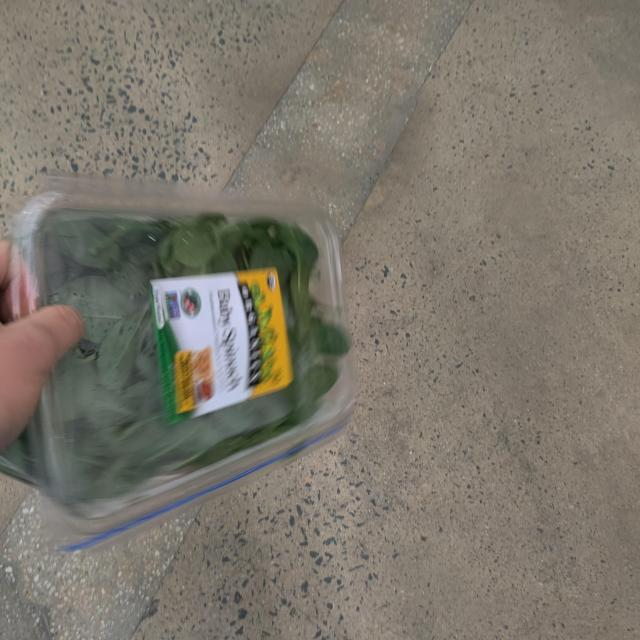Spinach: (11, 168, 373, 501)
